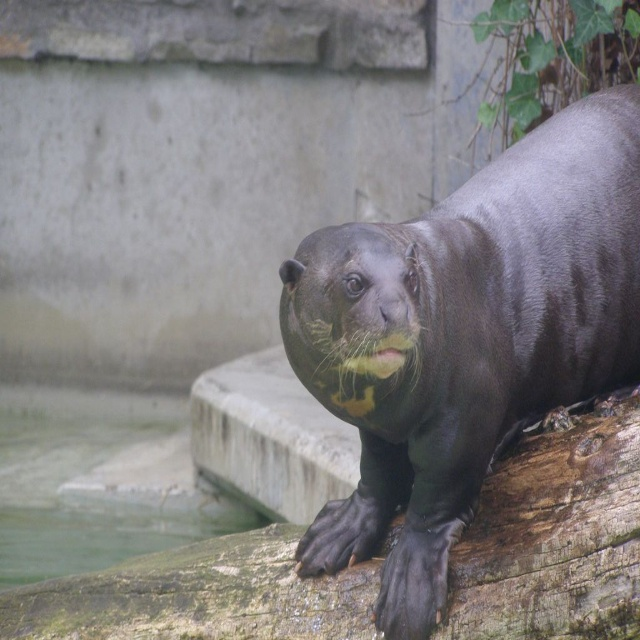Sea lion: (280, 76, 639, 639)
